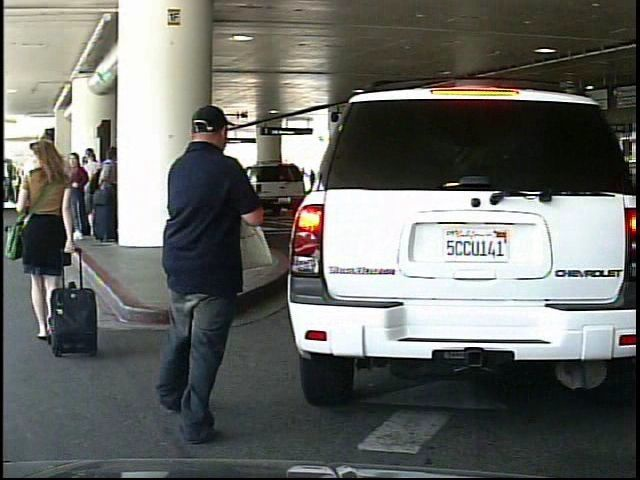person: (153, 102, 266, 442), (6, 132, 80, 361)
